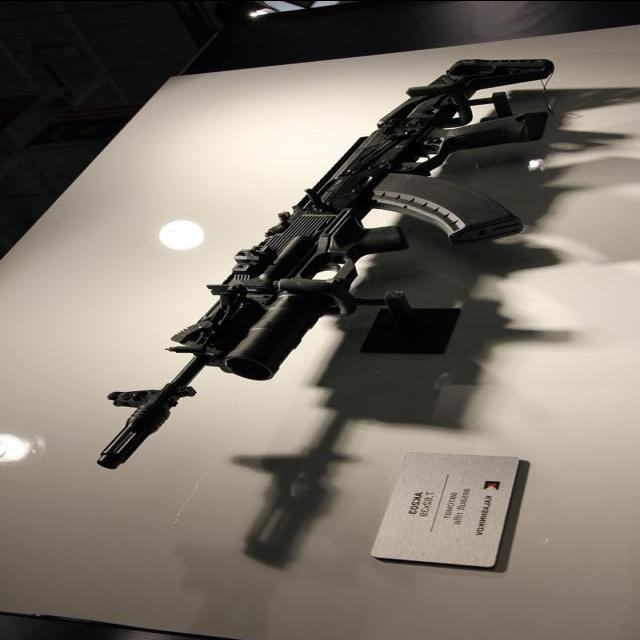rifle: (89, 34, 582, 477)
